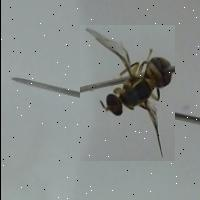Oriental-fruit-fly: (79, 24, 174, 160)
